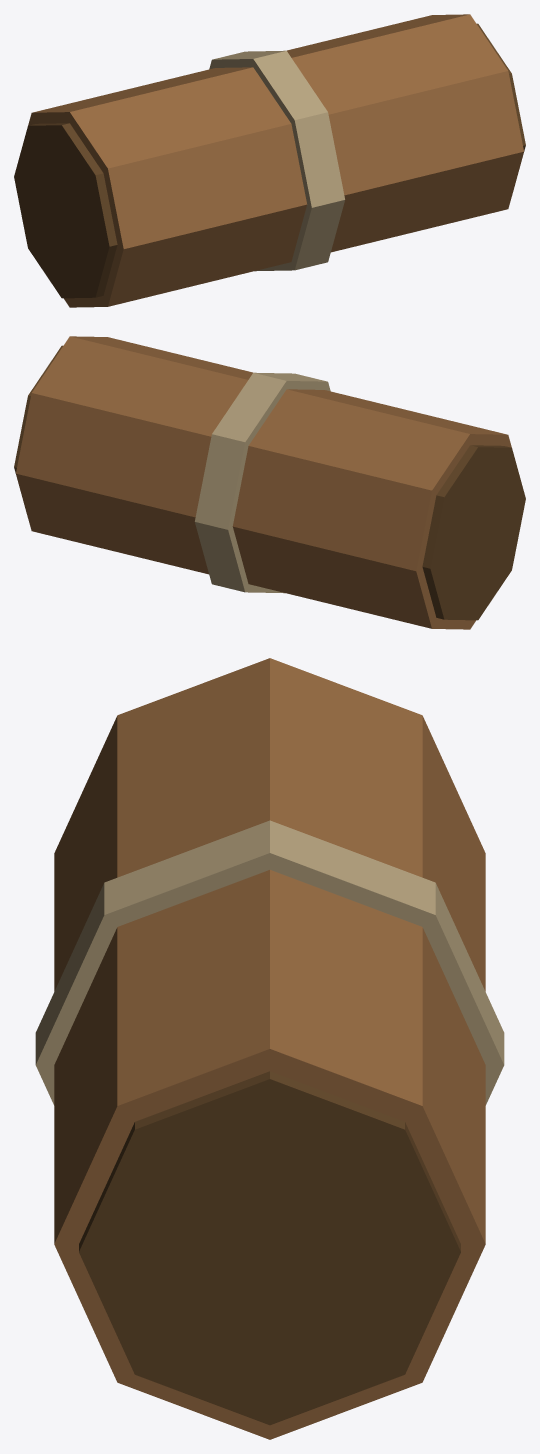
The model's file is couro.glb.
3 renders of one model, top to bottom at view 1: azimuth 30°, elevation 25°; view 2: azimuth 150°, elevation 25°; view 3: azimuth 270°, elevation 25°, orthographic. The views are drawn at different scales.
Visible parts, largest first — view 1: Cylinder; view 2: Cylinder; view 3: Cylinder.
Boxes of the visible parts, left/top/right/bottom form: Cylinder: left=14, top=14, right=525, bottom=307; Cylinder: left=14, top=336, right=525, bottom=629; Cylinder: left=35, top=658, right=504, bottom=1439.
Bounding box in the file's own units: 0.312 × 0.152 × 0.152.
